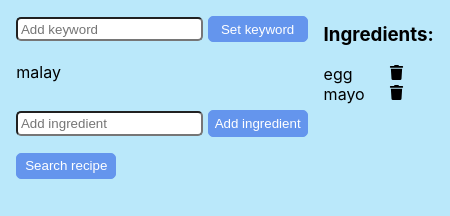
Test: App component › should check if the error 'Ingredient already added' gets displayed and error updates in the store
Type "maeyo" into the field with test id "ingredientInputID" at (109, 123), box x1=16 y1=111 x2=203 y2=136
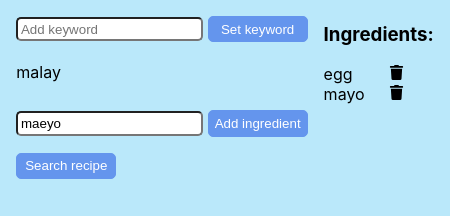
Click the button with test id "addIngredientID" at (258, 123), box x1=208 y1=110 x2=308 y2=137
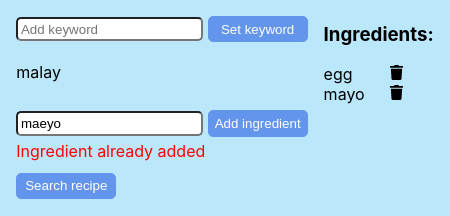
Expected: the text "Ingredient already added" is shown, x1=16 y1=141 x2=205 y2=161
Expected: the text with test id "errorID" reads "Ingredient already added", x1=16 y1=141 x2=205 y2=161
